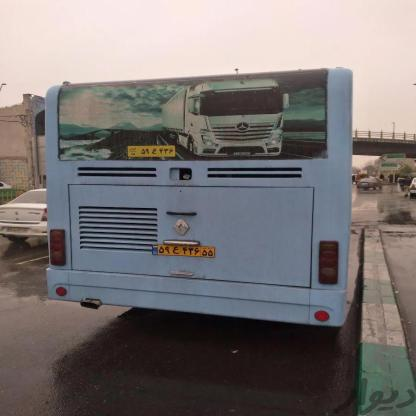Bus: (40, 72, 368, 330)
Car: (0, 180, 46, 244)
